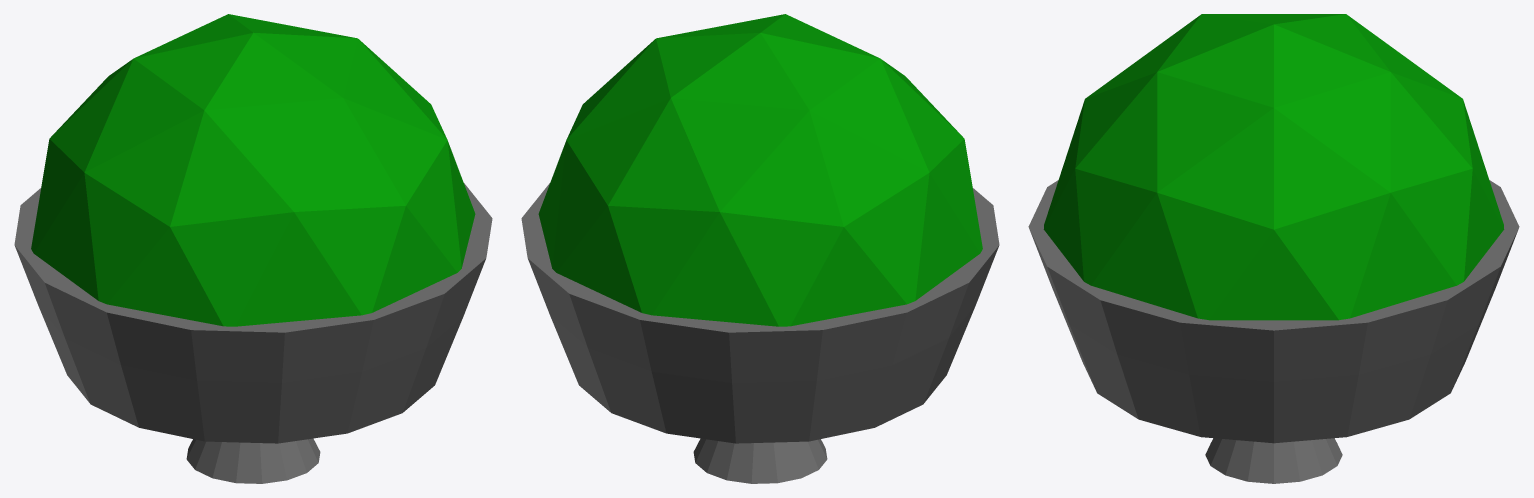
The model's file is Bush.glb.
3 renders of one model, left to right at view 1: azimuth 30°, elevation 25°; view 2: azimuth 150°, elevation 25°; view 3: azimuth 270°, elevation 25°, orthographic.
Parts seen in each view (by area): view 1: BrickBush; view 2: BrickBush; view 3: BrickBush.
Boxes of the visible parts, bbox=[...] form: BrickBush: bbox=[14, 14, 492, 483]; BrickBush: bbox=[521, 14, 999, 483]; BrickBush: bbox=[1028, 14, 1519, 483].
Bounding box in the file's own units: 1 × 0.9676 × 1.
